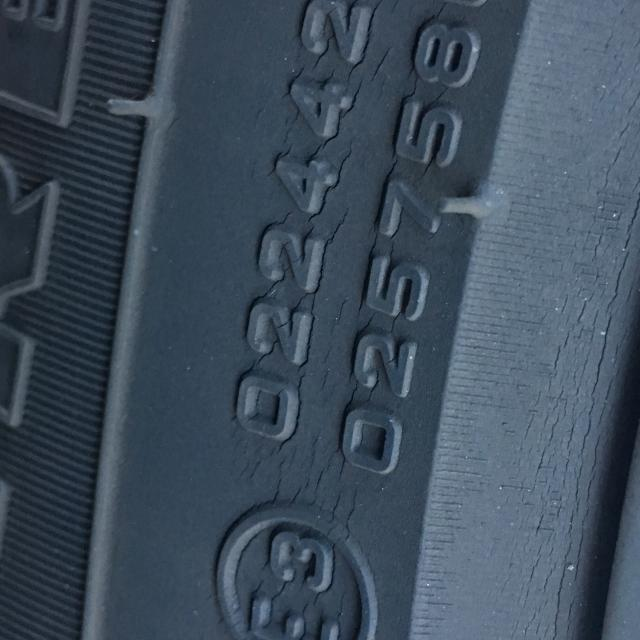Cracks: (228, 0, 640, 640)
